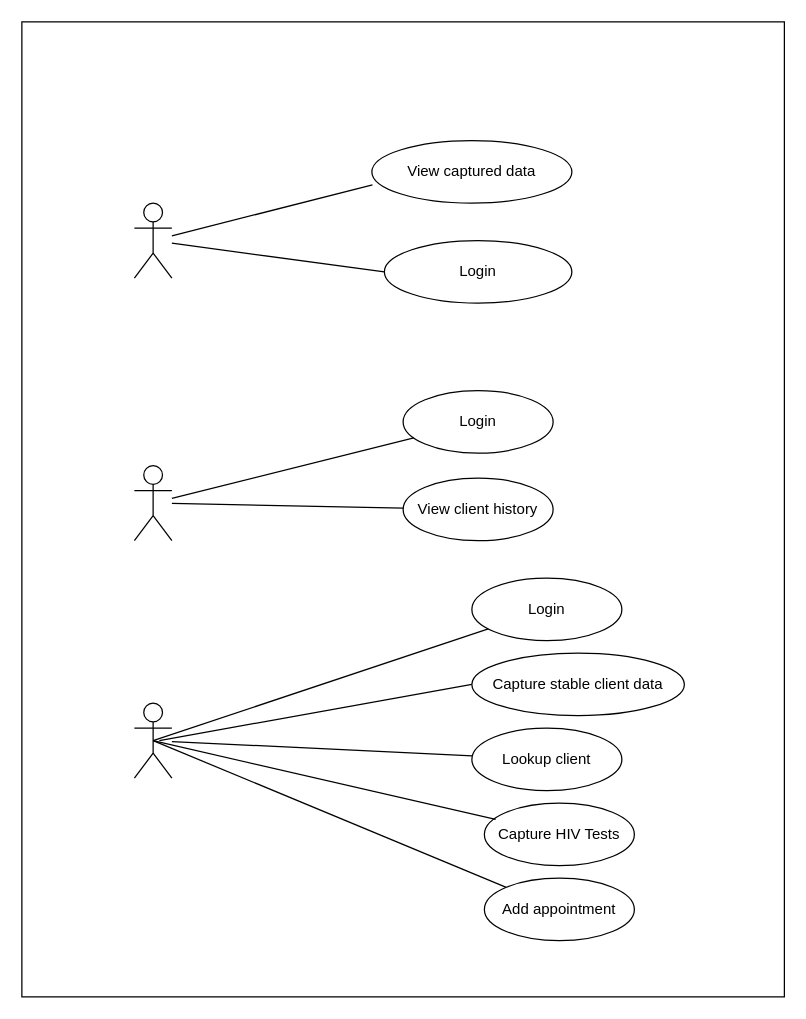
The diagram is 806 pixels wide and 1019 high, and some of its shapes have lost their labels. Each missing label, with the centre of its shape:
"Clinician" belongs at (152,502).
"Community Health Worker" belongs at (152,740).
"MoH Data Analyst" belongs at (152,240).
